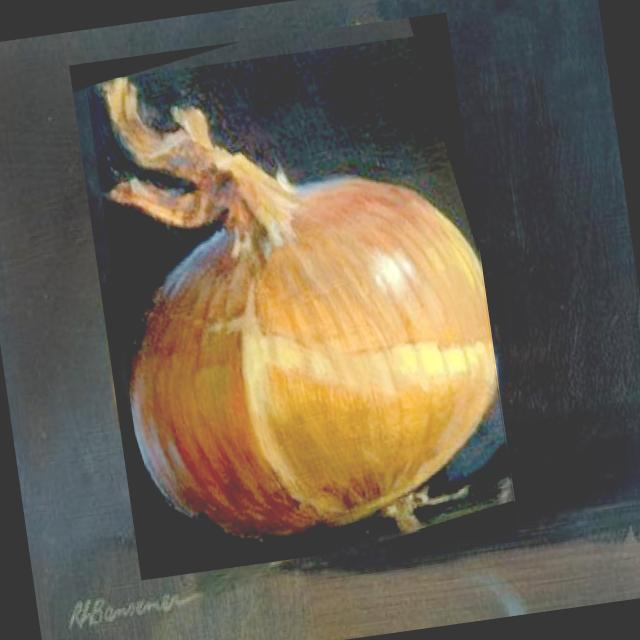healthy: (107, 78, 497, 537)
